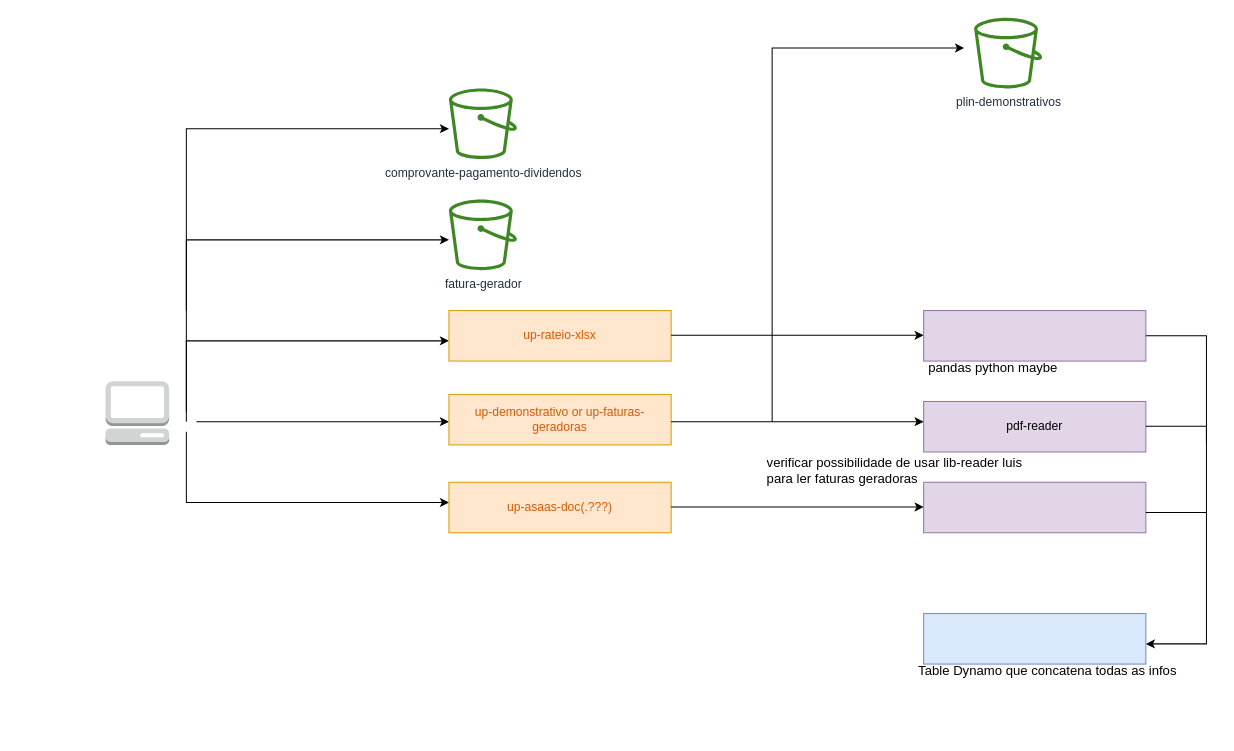
The diagram is 1234 pixels wide and 751 high, and some of its shapes have lost their labels. Here are the shapes that lost their labels. From the top down, the box of each, then its label:
(923, 310, 1146, 361): xlsx-reader
(105, 380, 169, 445): https://dev-gerador.plinenergia.com.br/admin
(923, 481, 1146, 533): doc-reader
(923, 613, 1146, 664): UsinaGeradorTable
